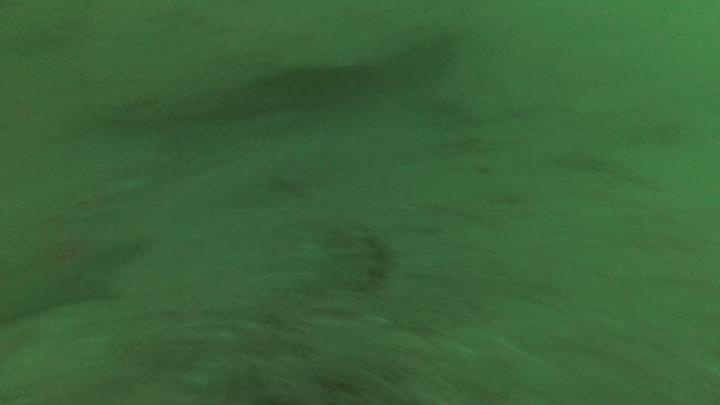starfish: (1, 208, 146, 326)
